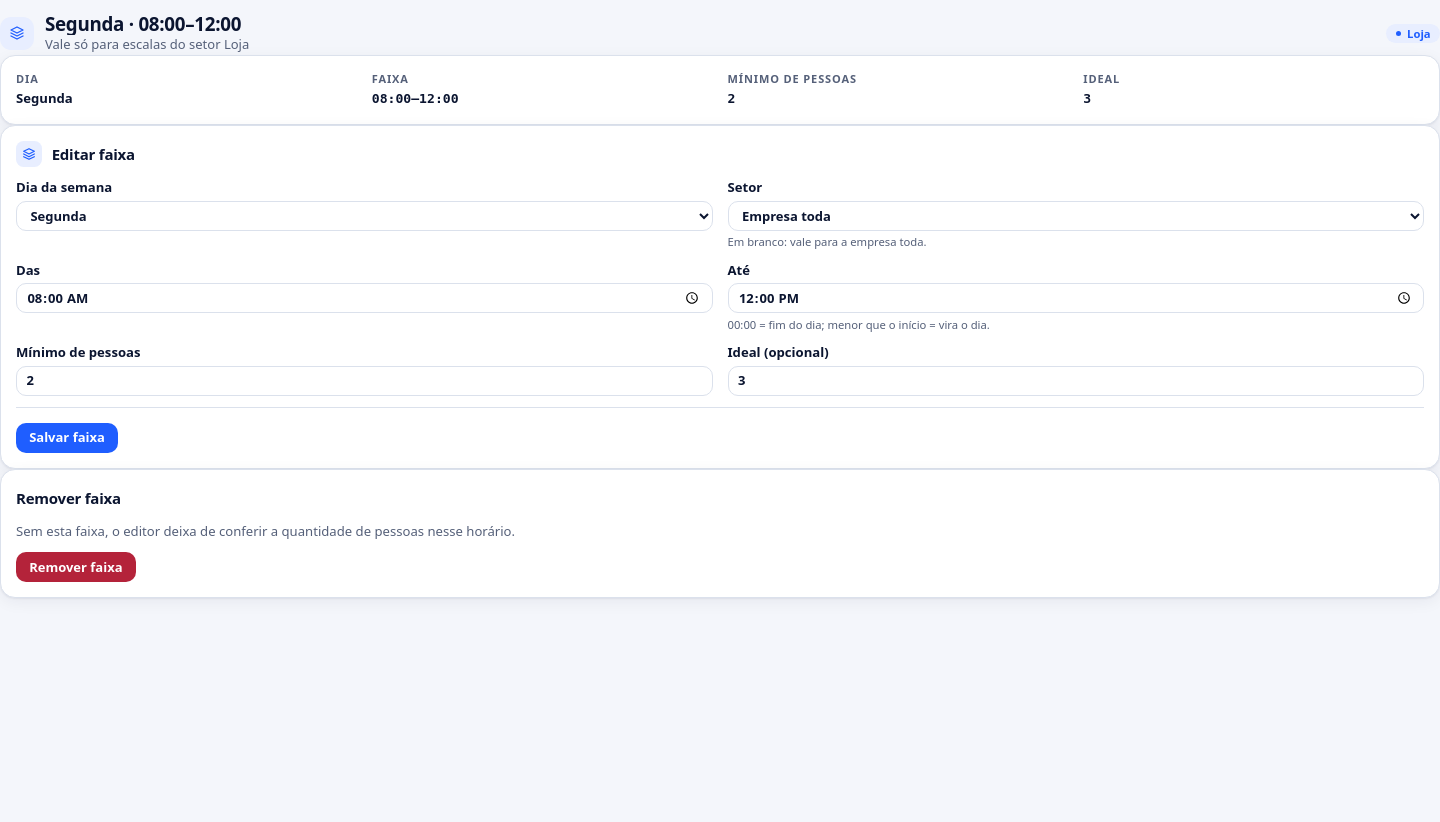
Test case: tela da faixa de cobertura › falha ao remover mostra o erro e não sai da tela; quem não gere não vê a remoção
The width and height of the screenshot is (1440, 822).
Expected: the text "Vale só para escalas do setor Loja" is shown, [45,35,249,53]
Click the button "Remover faixa".
click(76, 567)  # box [16,552,136,582]
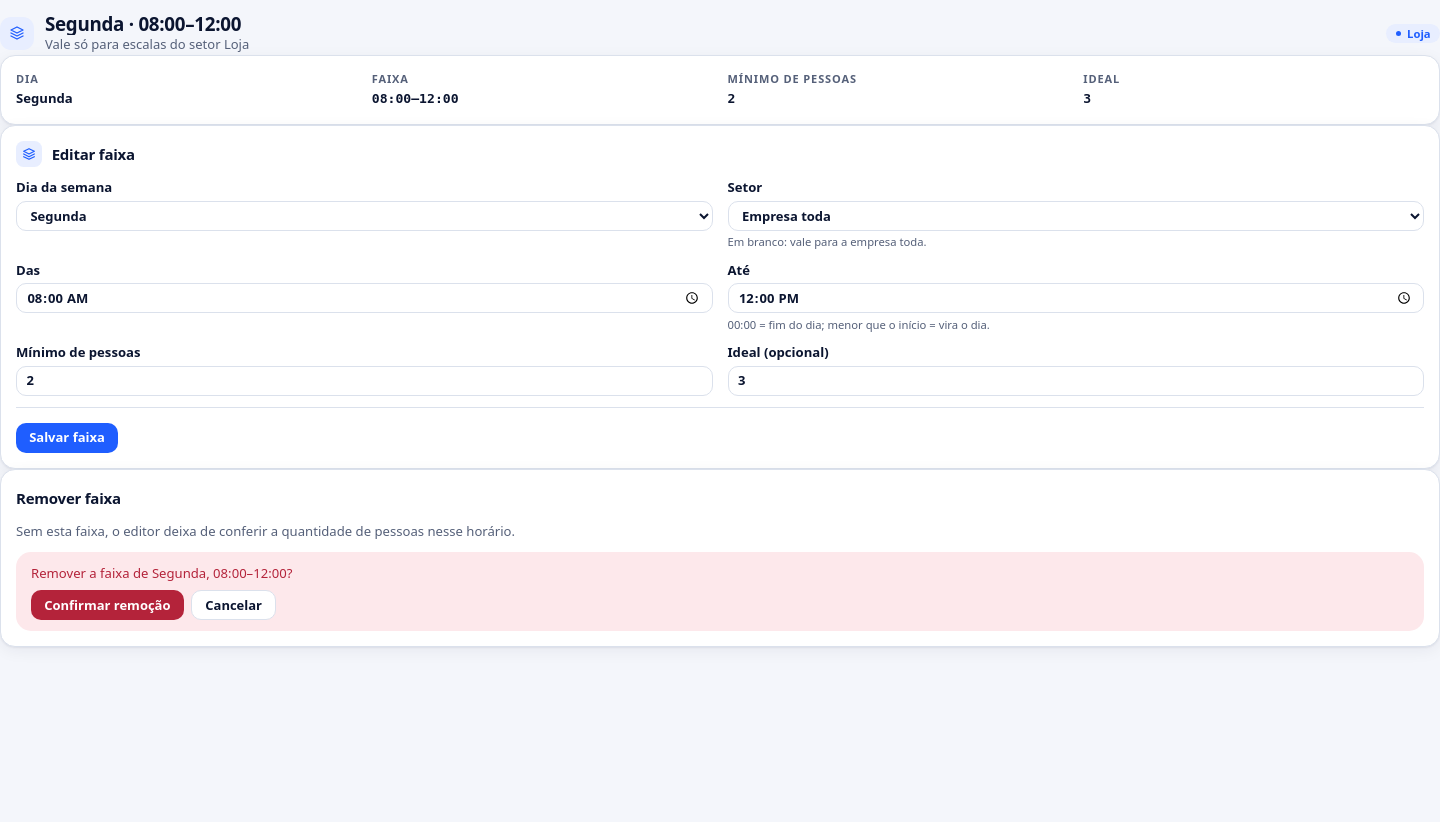
Click the button "Confirmar remoção".
click(107, 605)  # box [31,590,184,620]
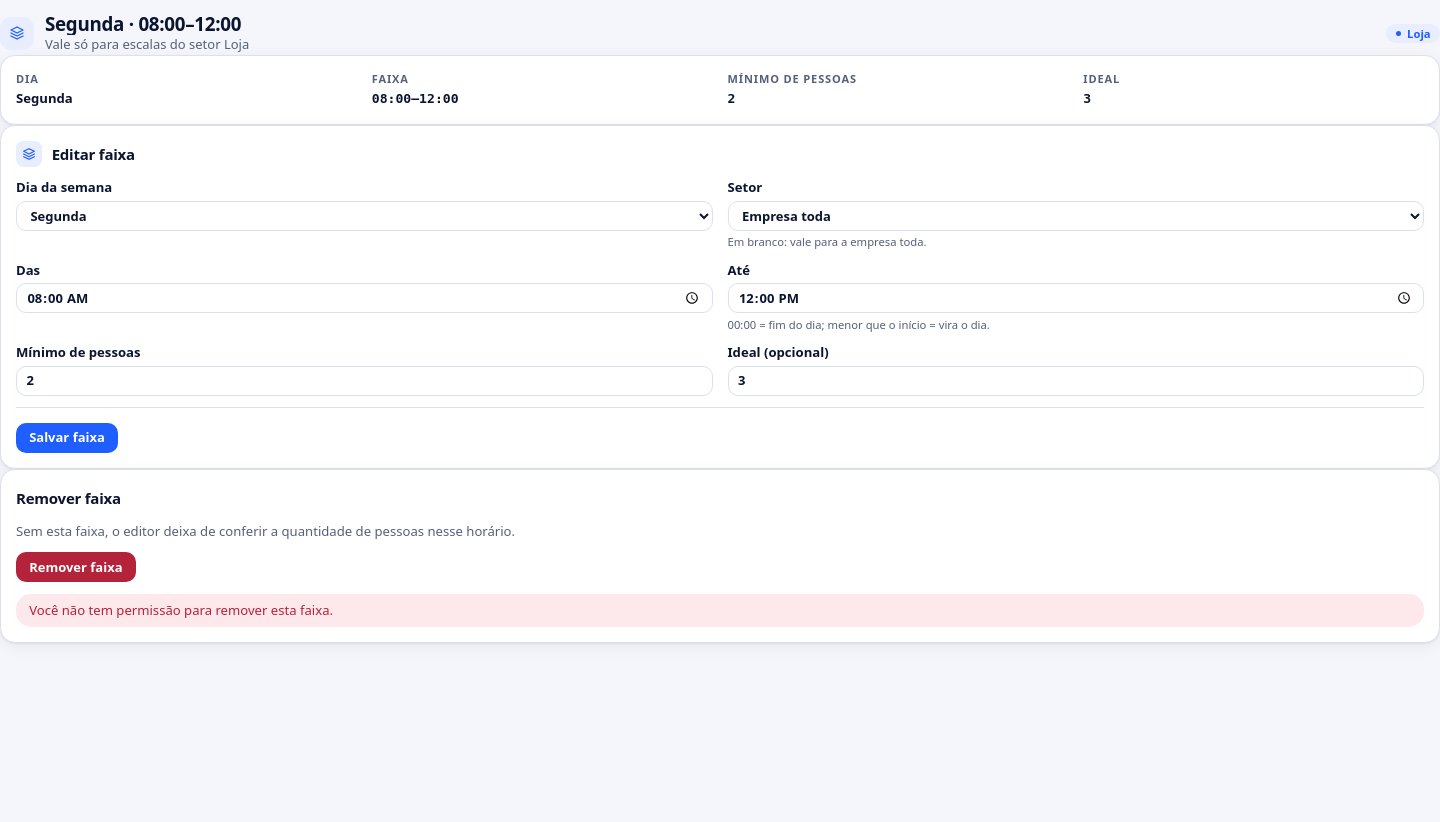
Expected: the text "Você não tem permissão para remover esta faixa." is shown, [16,594,1424,627]
